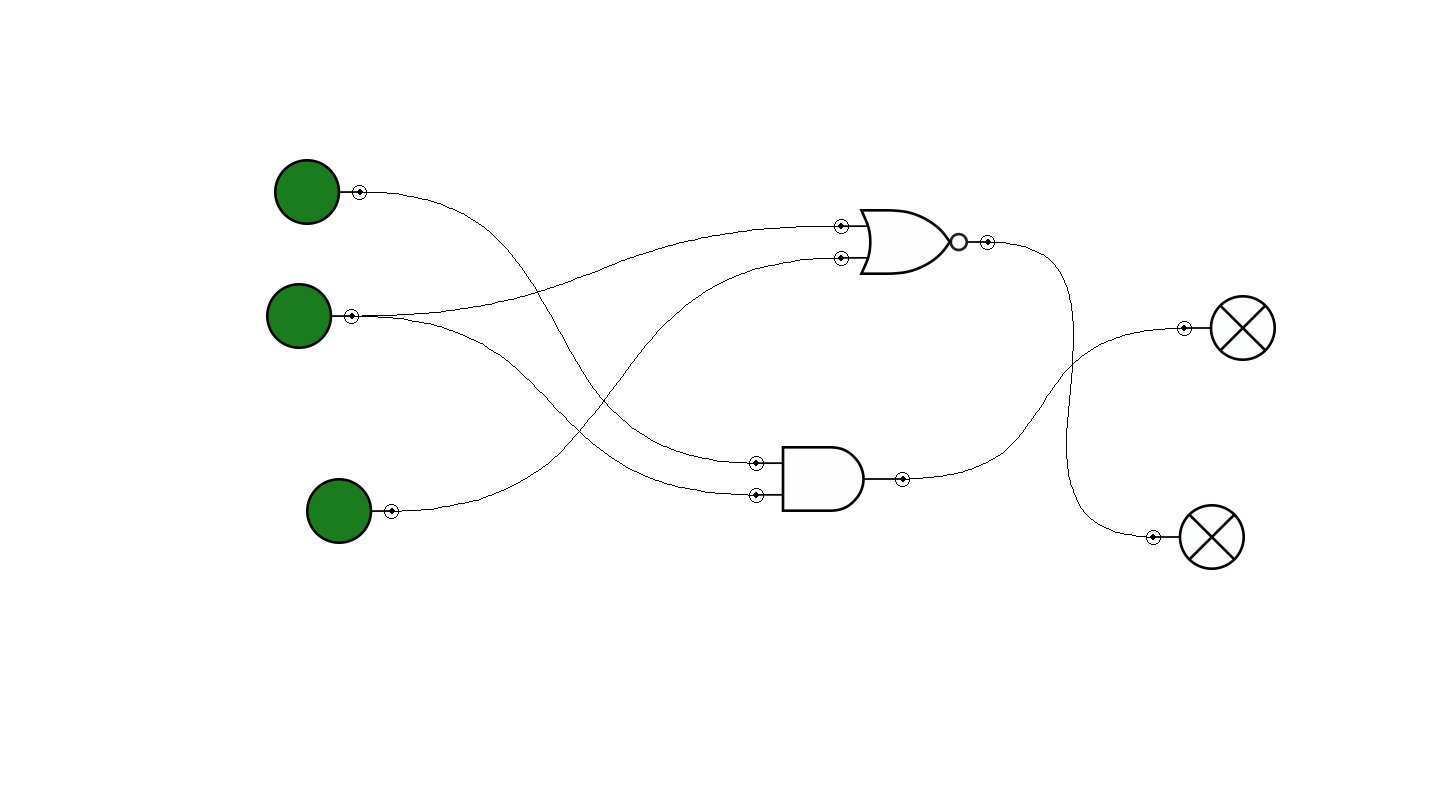and: (749, 446, 910, 512)
bulb: (1177, 295, 1276, 361), (1146, 504, 1245, 570)
nor: (834, 209, 995, 275)
switch_True: (306, 478, 399, 544), (266, 283, 359, 349), (274, 159, 367, 225)
